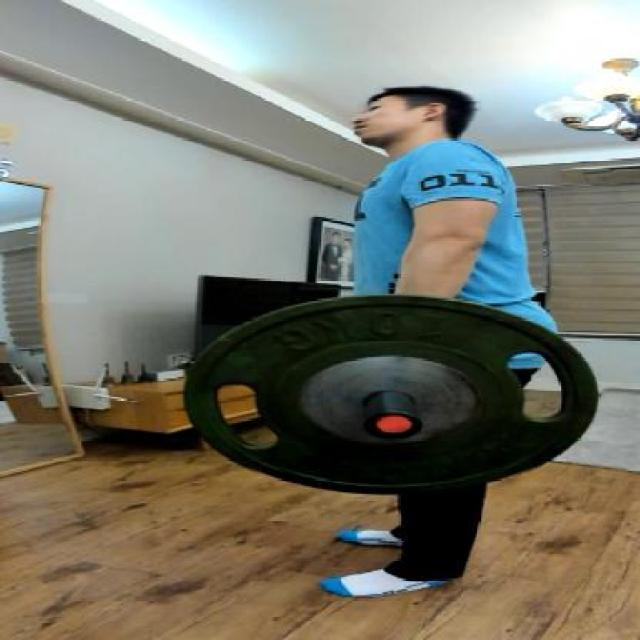barbell: (173, 287, 609, 501)
